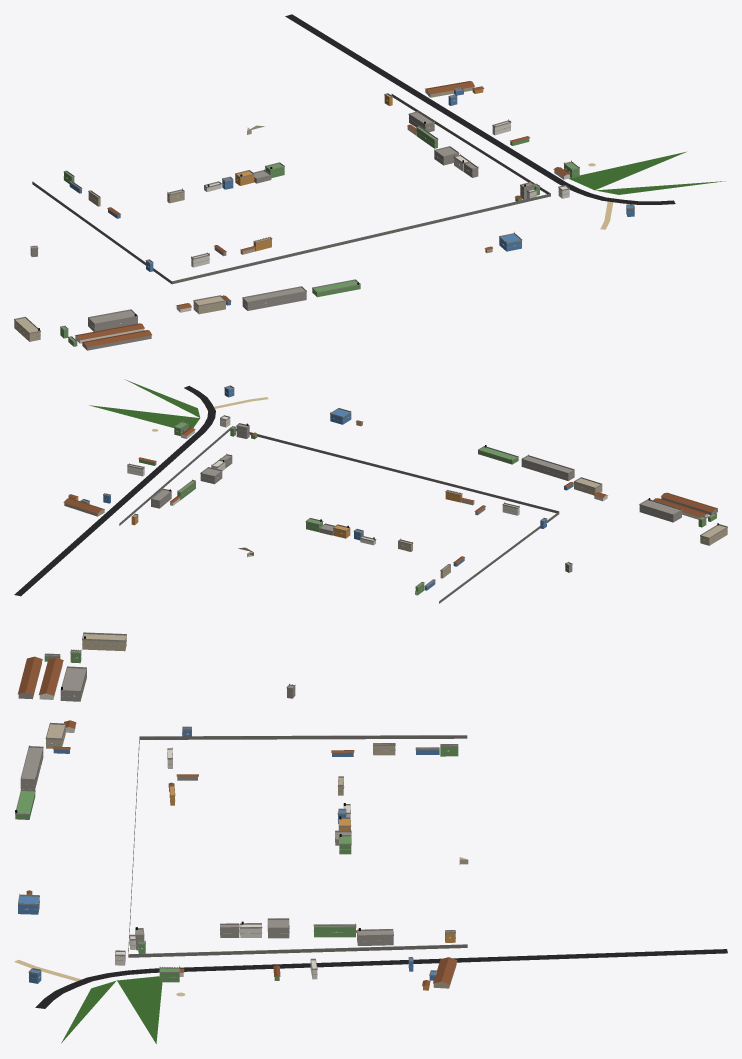
Rendered from zone_t6_-2.glb.
The picture shows the model from 3 angles, top to bottom: view 1: azimuth 30°, elevation 25°; view 2: azimuth 150°, elevation 25°; view 3: azimuth 270°, elevation 25°; orthographic projection. The views are drawn at different scales.
Parts seen in each view (by area): view 1: bld_beton_t6_-2-col, parapet_t6_-2, route_unclassified_bitume_t6_-2, mur_wall_t6_-2-col, toit_tole_t6_-2, zone_herbe_t6_-2, bld_peinture_vert_t6_-2-col, bld_peinture_ecaillee_t6_-2-col, bld_peinture_blanc_t6_-2-col, bld_peinture_bleu_t6_-2-col; view 2: bld_beton_t6_-2-col, parapet_t6_-2, route_unclassified_bitume_t6_-2, mur_wall_t6_-2-col, toit_tole_t6_-2, zone_herbe_t6_-2, bld_peinture_ecaillee_t6_-2-col, bld_peinture_vert_t6_-2-col, bld_peinture_blanc_t6_-2-col, bld_peinture_bleu_t6_-2-col, bandeau_t6_-2, bld_peinture_ocre_t6_-2-col; view 3: route_unclassified_bitume_t6_-2, bld_beton_t6_-2-col, mur_wall_t6_-2-col, parapet_t6_-2, zone_herbe_t6_-2, toit_tole_t6_-2, bld_peinture_vert_t6_-2-col, bld_peinture_ecaillee_t6_-2-col, bld_peinture_bleu_t6_-2-col, bld_peinture_blanc_t6_-2-col.
Part boxes in pixels (bbox=[...]): bld_beton_t6_-2-col: bbox=[30, 112, 534, 350]; parapet_t6_-2: bbox=[14, 87, 634, 342]; route_unclassified_bitume_t6_-2: bbox=[285, 14, 675, 204]; mur_wall_t6_-2-col: bbox=[32, 94, 550, 284]; toit_tole_t6_-2: bbox=[75, 81, 570, 347]; zone_herbe_t6_-2: bbox=[569, 151, 725, 194]; bld_peinture_vert_t6_-2-col: bbox=[60, 127, 579, 346]; bld_peinture_ecaillee_t6_-2-col: bbox=[14, 87, 492, 341]; bld_peinture_blanc_t6_-2-col: bbox=[63, 121, 569, 343]; bld_peinture_bleu_t6_-2-col: bbox=[69, 88, 634, 305]; bld_beton_t6_-2-col: bbox=[151, 424, 717, 572]; parapet_t6_-2: bbox=[80, 385, 727, 588]; route_unclassified_bitume_t6_-2: bbox=[14, 385, 215, 596]; mur_wall_t6_-2-col: bbox=[119, 427, 559, 603]; toit_tole_t6_-2: bbox=[63, 420, 717, 563]; zone_herbe_t6_-2: bbox=[89, 379, 200, 427]; bld_peinture_ecaillee_t6_-2-col: bbox=[64, 422, 727, 578]; bld_peinture_vert_t6_-2-col: bbox=[139, 422, 716, 594]; bld_peinture_blanc_t6_-2-col: bbox=[127, 416, 708, 595]; bld_peinture_bleu_t6_-2-col: bbox=[82, 386, 573, 590]; bandeau_t6_-2: bbox=[103, 391, 727, 591]; bld_peinture_ocre_t6_-2-col: bbox=[68, 491, 462, 538]; route_unclassified_bitume_t6_-2: bbox=[35, 949, 727, 1008]; bld_beton_t6_-2-col: bbox=[18, 663, 393, 950]; mur_wall_t6_-2-col: bbox=[128, 735, 467, 957]; parapet_t6_-2: bbox=[15, 632, 458, 976]; zone_herbe_t6_-2: bbox=[61, 976, 162, 1043]; toit_tole_t6_-2: bbox=[18, 656, 457, 986]; bld_peinture_vert_t6_-2-col: bbox=[15, 651, 458, 982]; bld_peinture_ecaillee_t6_-2-col: bbox=[28, 634, 468, 988]; bld_peinture_bleu_t6_-2-col: bbox=[18, 728, 439, 983]; bld_peinture_blanc_t6_-2-col: bbox=[39, 665, 350, 979].
Bounding box in the file's own units: 547 × 11 × 411.
